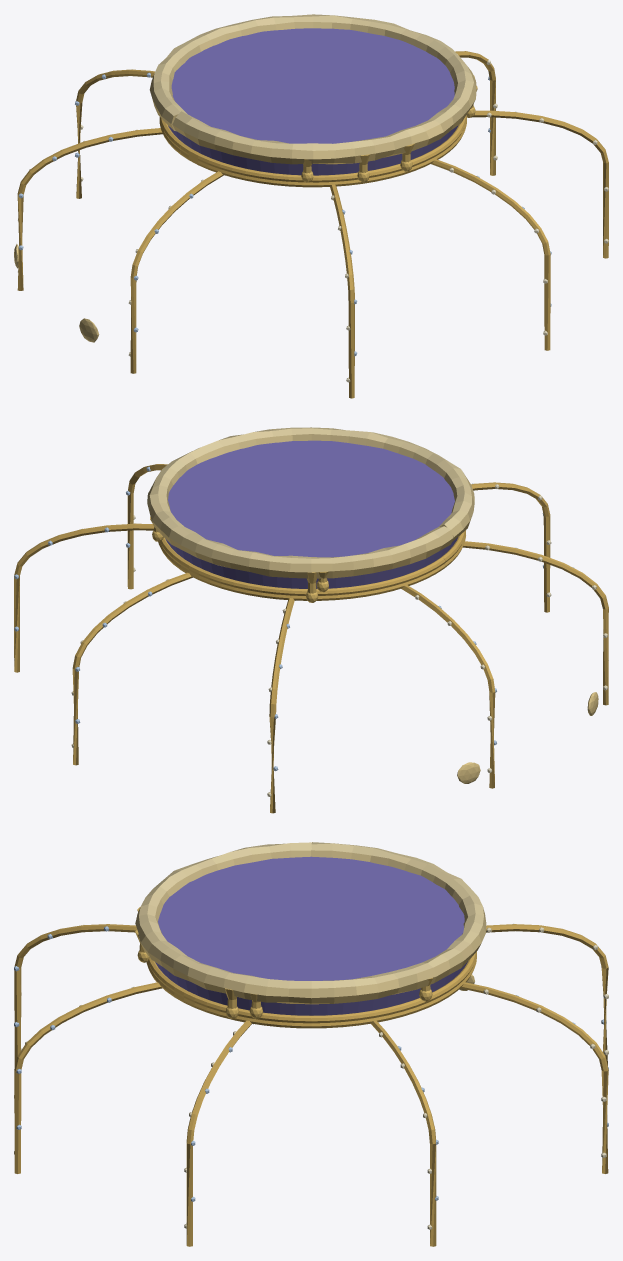
Rendered from goo_jar_trim_1_top@starlight.fbx.
3 views of the same model, one above another, from view 1: azimuth 30°, elevation 25°; view 2: azimuth 150°, elevation 25°; view 3: azimuth 270°, elevation 25° (orthographic). The views are drawn at different scales.
Parts seen in each view (by area): view 1: goo_jar_trim_1_top; view 2: goo_jar_trim_1_top; view 3: goo_jar_trim_1_top.
Part boxes in pixels (x1,y1,x2,y2): goo_jar_trim_1_top: (14,14,608,398); goo_jar_trim_1_top: (14,427,608,813); goo_jar_trim_1_top: (14,842,608,1246).
Size of the model in its own units: 60.36 by 22.69 by 58.37.
